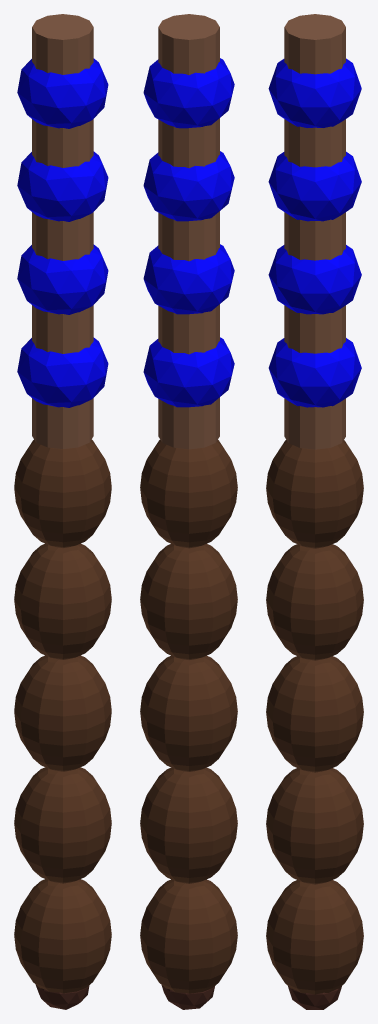
File: Wand 230.glb
3 views of the same model, side by side, from view 1: azimuth 30°, elevation 25°; view 2: azimuth 210°, elevation 25°; view 3: azimuth 270°, elevation 25° (orthographic).
Visible parts, largest first — view 1: GeneratedWand; view 2: GeneratedWand; view 3: GeneratedWand.
Part boxes in pixels (bbox=[...]): GeneratedWand: bbox=[14, 14, 111, 1009]; GeneratedWand: bbox=[140, 14, 237, 1009]; GeneratedWand: bbox=[266, 14, 363, 1009].
Bounding box in the file's own units: 0.0447 × 0.4973 × 0.0449.
